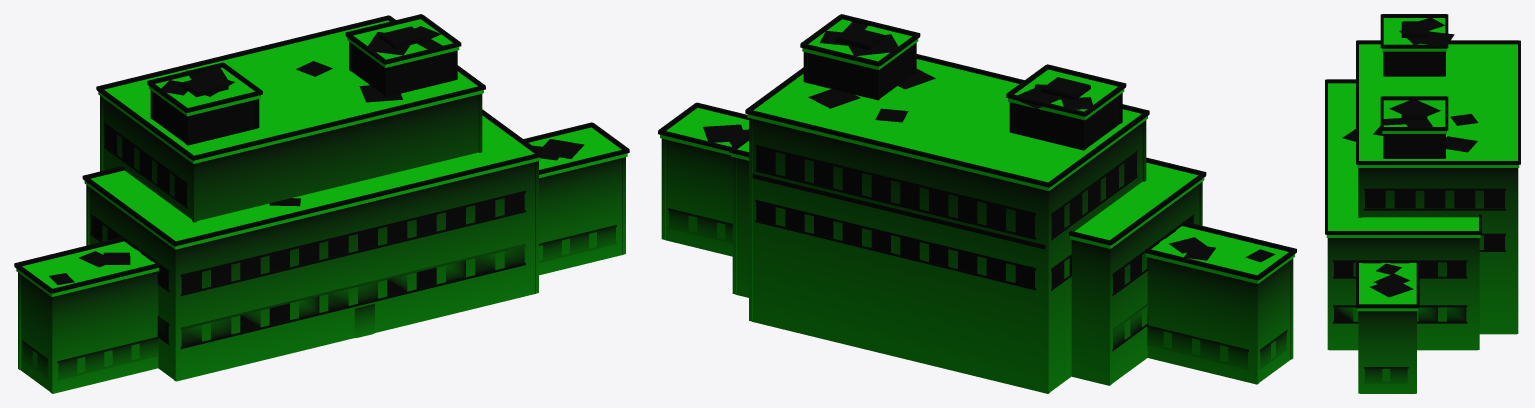
The model's file is s_admin_core.glb.
3 renders of one model, left to right at view 1: azimuth 30°, elevation 25°; view 2: azimuth 150°, elevation 25°; view 3: azimuth 270°, elevation 25°, orthographic. The views are drawn at different scales.
Parts seen in each view (by area): view 1: lod0; view 2: lod0; view 3: lod0.
Part boxes in pixels (x1=…): lod0: x1=14, y1=14, x2=629, y2=393; lod0: x1=658, y1=14, x2=1296, y2=393; lod0: x1=1325, y1=14, x2=1520, y2=393.
Size of what is drawn, in the model's own units: 57.2 by 22.85 by 19.7.
